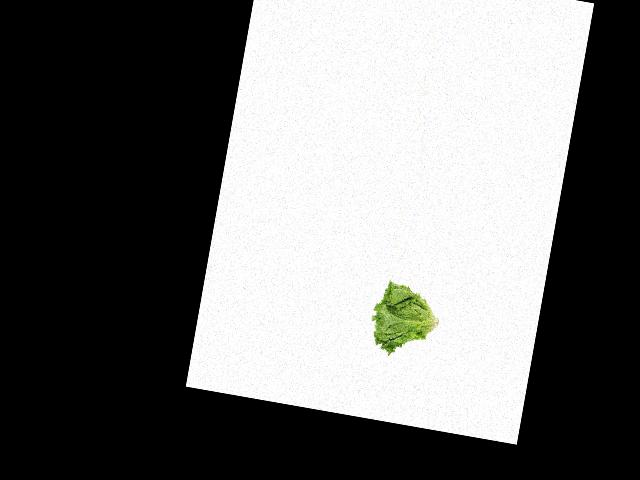lettuce: (363, 277, 446, 359)
